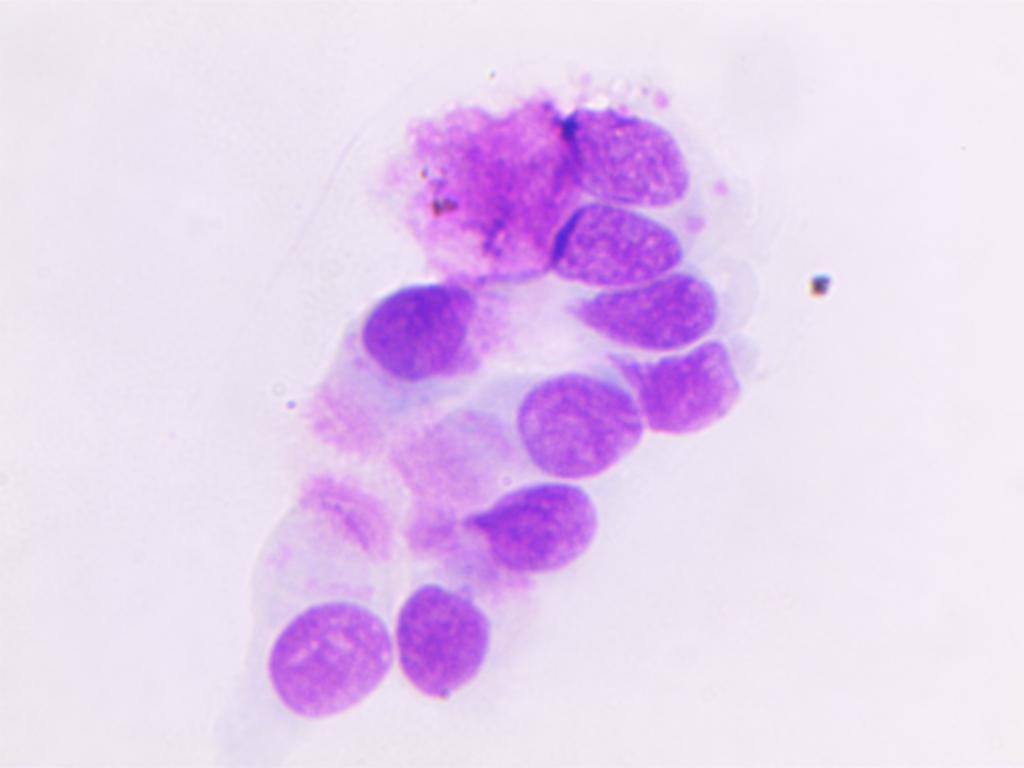ciliated: (234, 459, 391, 733), (310, 282, 486, 473), (417, 370, 643, 480), (397, 483, 612, 588)
epithelial: (561, 270, 746, 353), (636, 339, 757, 441), (397, 587, 496, 701)
goblet_cell: (401, 88, 710, 214), (448, 186, 703, 286)
